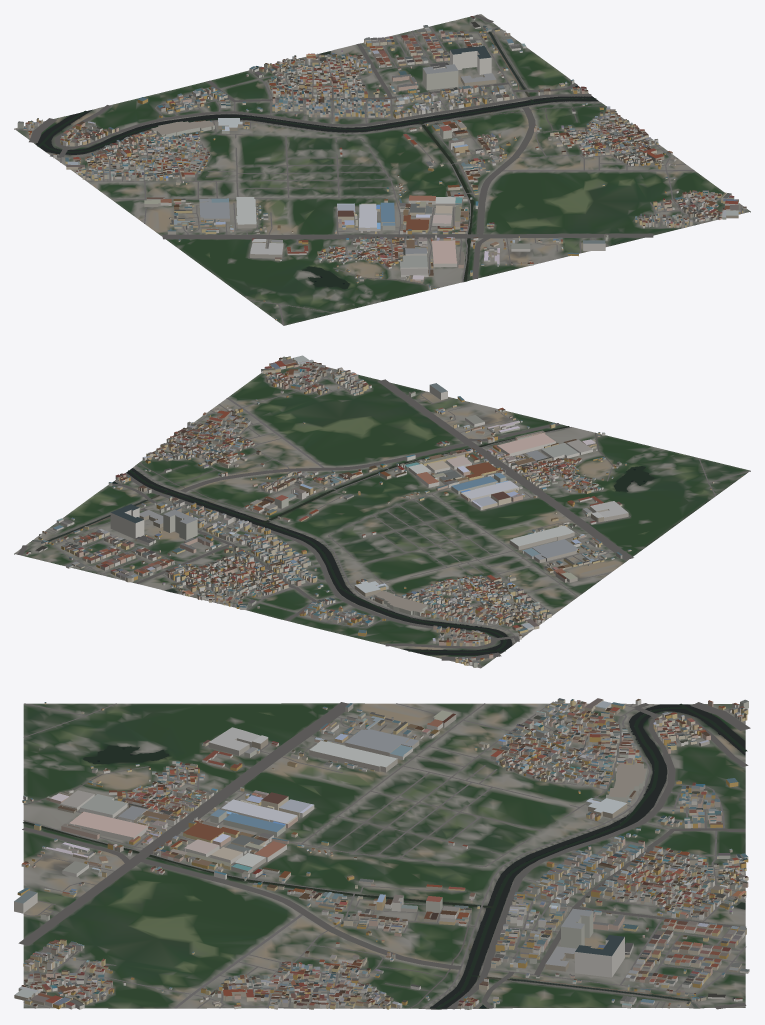
3 views of the same model, one above another, from view 1: azimuth 30°, elevation 25°; view 2: azimuth 150°, elevation 25°; view 3: azimuth 270°, elevation 25° (orthographic). The views are drawn at different scales.
Visible parts, largest first — view 1: ground, buildings, roads, water; view 2: ground, buildings, roads, water; view 3: ground, buildings, roads, water.
Part boxes in pixels (bbox=[...]): ground: bbox=[14, 14, 750, 325]; buildings: bbox=[17, 16, 746, 320]; roads: bbox=[14, 14, 741, 325]; water: bbox=[36, 27, 598, 289]; ground: bbox=[14, 356, 750, 668]; buildings: bbox=[26, 355, 743, 667]; roads: bbox=[17, 364, 750, 667]; water: bbox=[32, 426, 653, 655]; ground: bbox=[23, 703, 745, 1009]; buildings: bbox=[14, 698, 749, 1009]; roads: bbox=[18, 702, 750, 1009]; water: bbox=[23, 703, 747, 1009].
Size of the model in its own units: 1417 by 52.25 by 1431.
